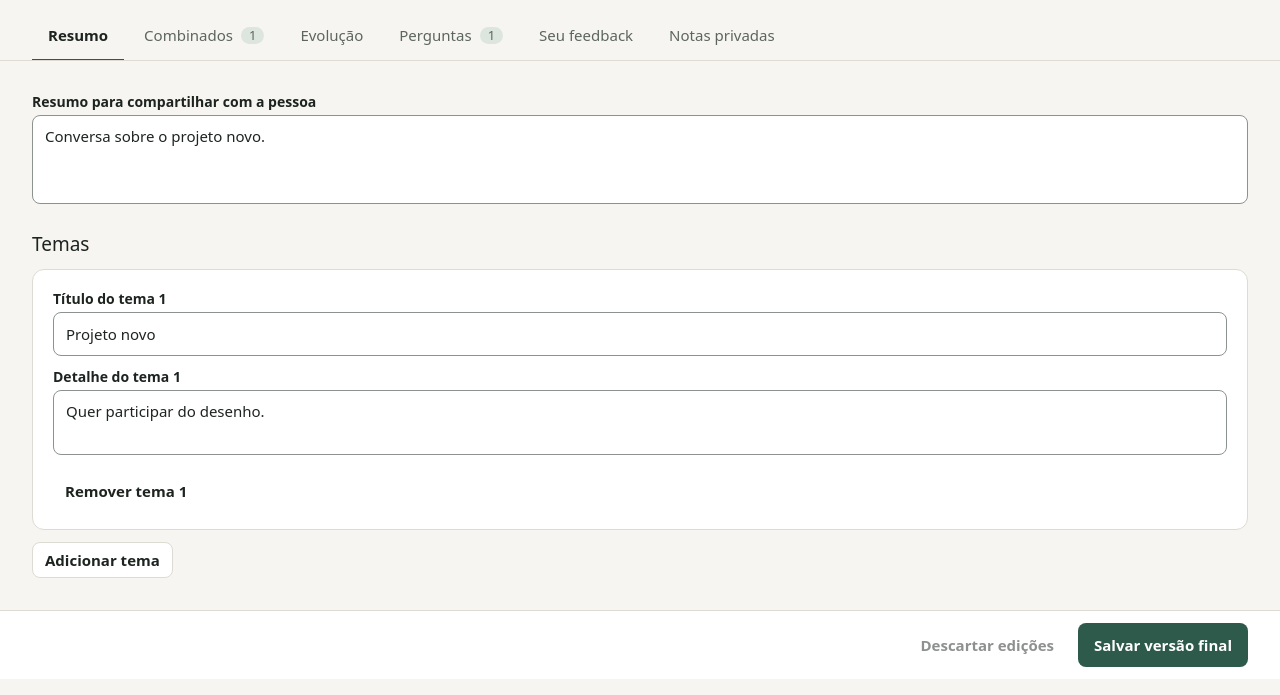
it: ReviewEditor › sinais de evolução por responsabilidade › deve manter a escolha de uma responsabilidade que saiu do responsograma, marcada como anterior
What coordinates should you click on to do the following:
click the tab "Evolução"
I would click on:
 (332, 36)
Its box is x1=284 y1=12 x2=379 y2=60.
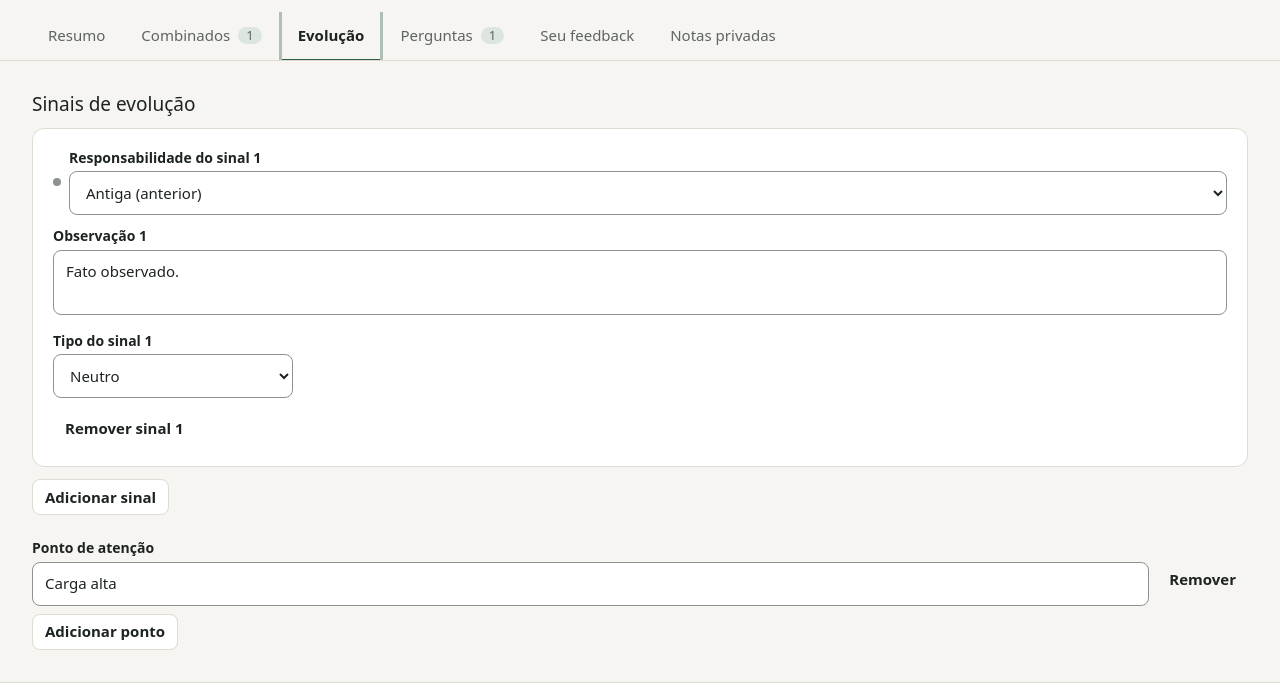
Now the dropdown labelled "Responsabilidade do sinal 1" shows "Antiga (anterior)", box x1=69 y1=171 x2=1227 y2=215
